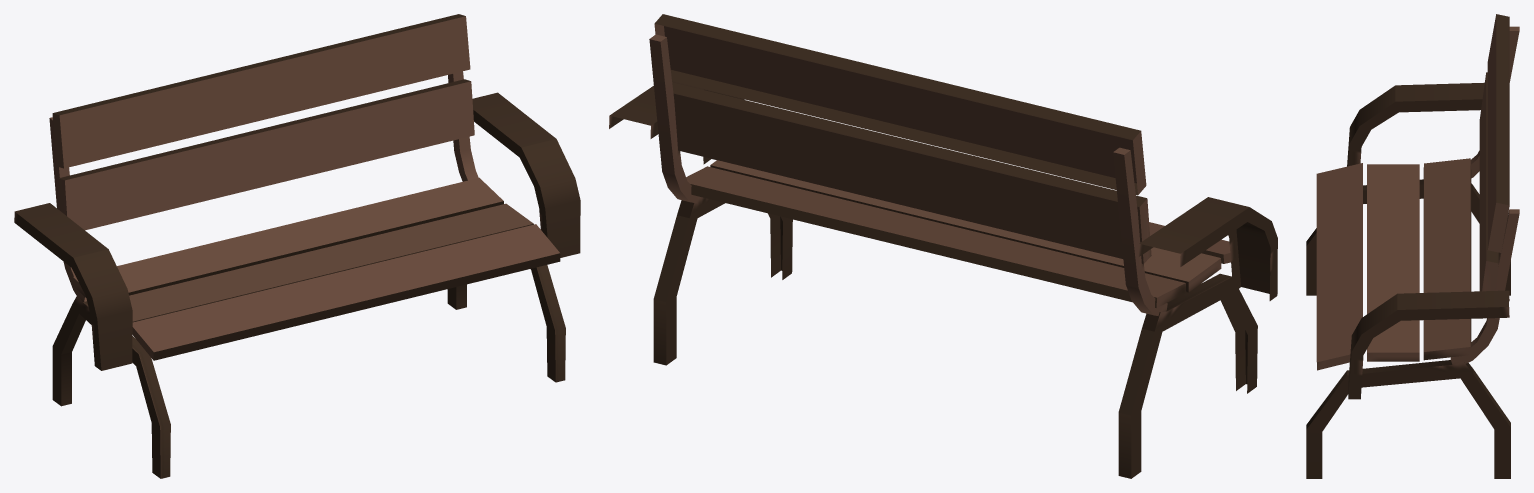
File: Bench_Animation.fbx
The picture shows the model from 3 angles, left to right: view 1: azimuth 30°, elevation 25°; view 2: azimuth 150°, elevation 25°; view 3: azimuth 270°, elevation 25°; orthographic projection. The views are drawn at different scales.
Parts seen in each view (by area): view 1: bench; view 2: bench; view 3: bench.
Part boxes in pixels (x1,y1,x2,y2): bench: (14, 14, 580, 478); bench: (609, 14, 1277, 478); bench: (1306, 14, 1519, 478).
Bounding box in the file's own units: 1.55 × 0.8881 × 0.6203.
